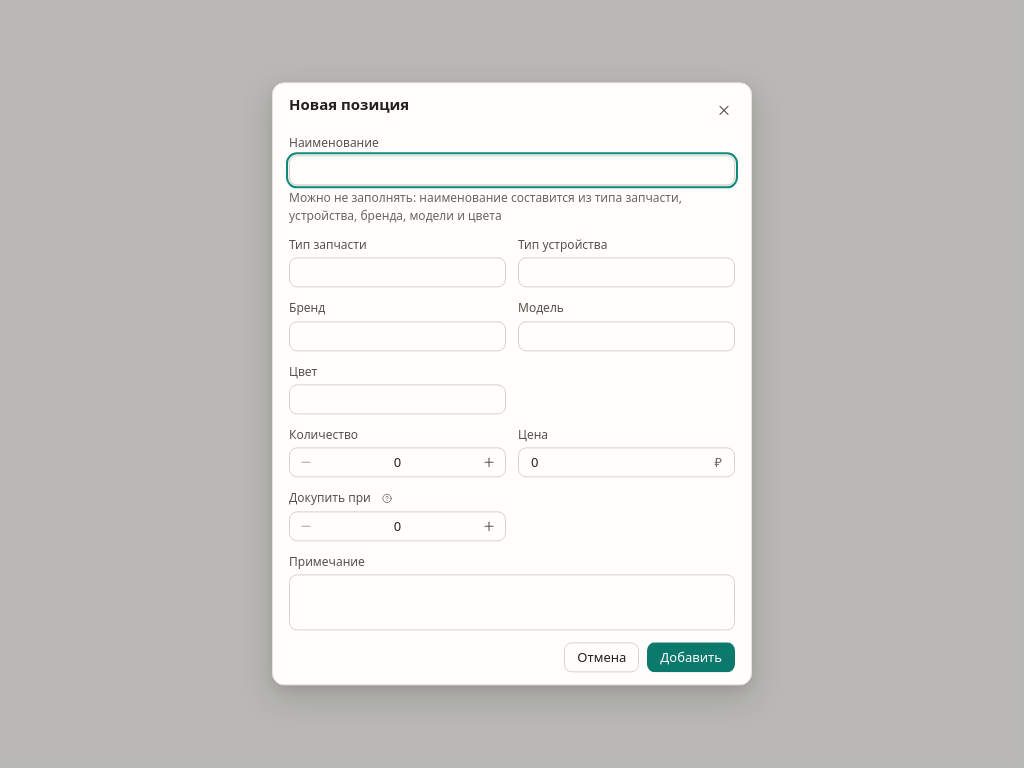
StockAddDialog › a refusal of the server stays at its field and what was typed is kept
The width and height of the screenshot is (1024, 768).
Type "M-1" into the field labelled "Модель".
click(626, 336); type("M-1")  # box [531, 322, 722, 350]
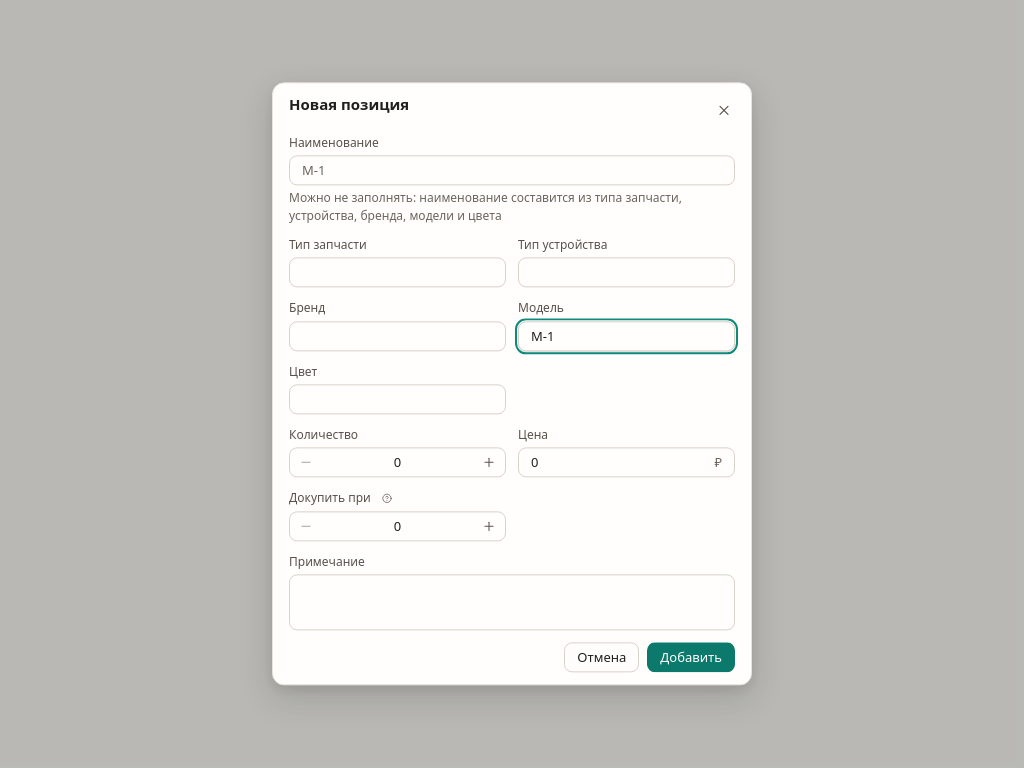
Click the button "Добавить".
click(691, 658)  # box [647, 643, 735, 673]
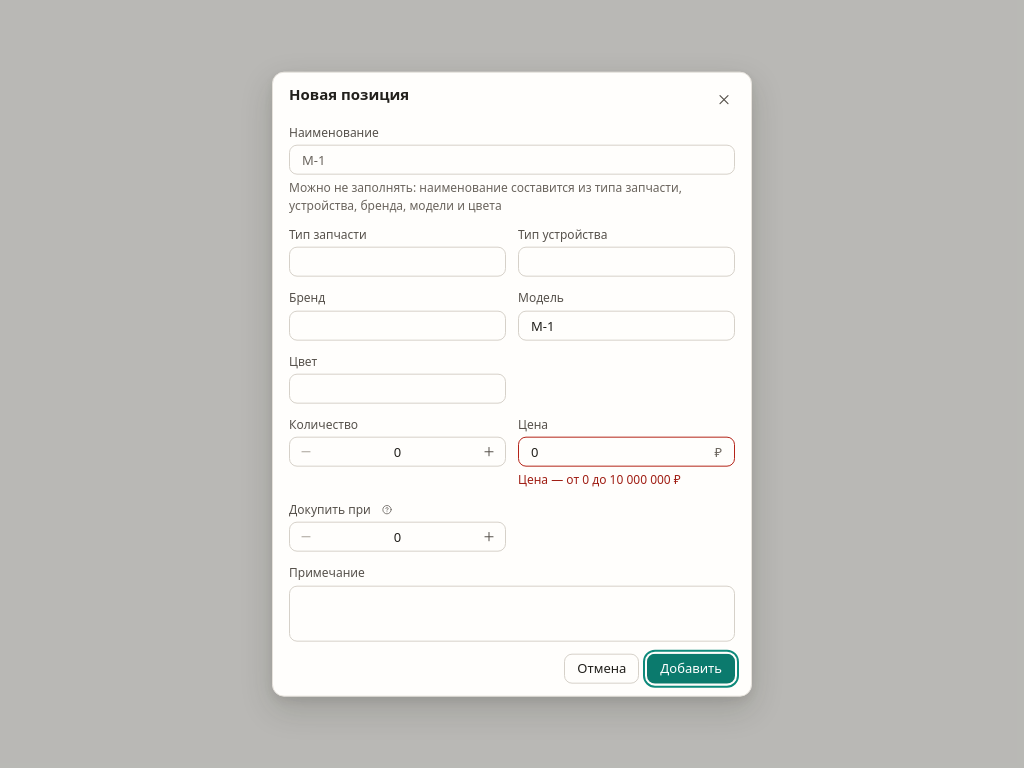
Expected: the dialog "Новая позиция" is shown, [272, 72, 752, 696]
Expected: the text "Цена — от 0 до 10 000 000 ₽" is shown, [518, 471, 681, 488]
